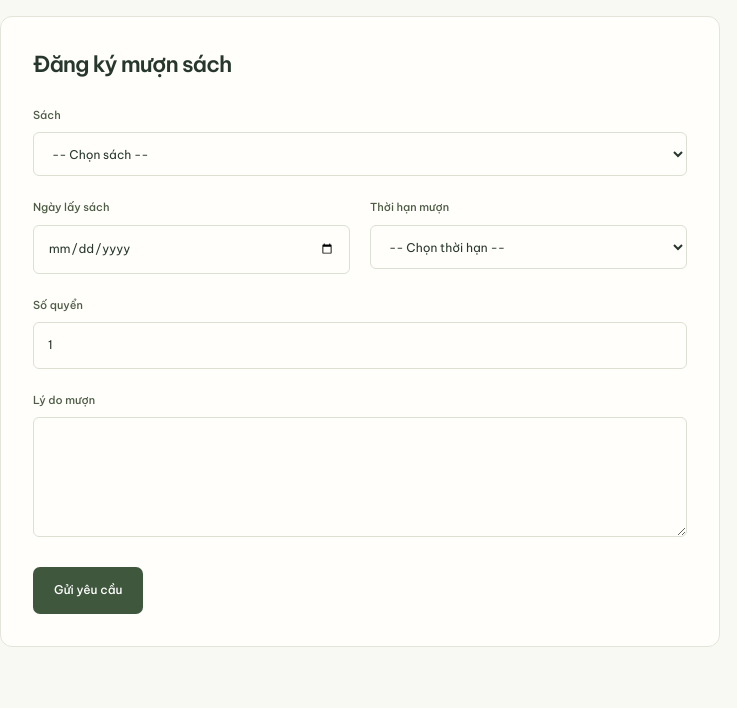
Test case: lỗi hiện bên dưới đúng ô và liên kết bằng aria-describedby
Click the button "Gửi yêu cầu": (88, 590) [33,567,143,614]
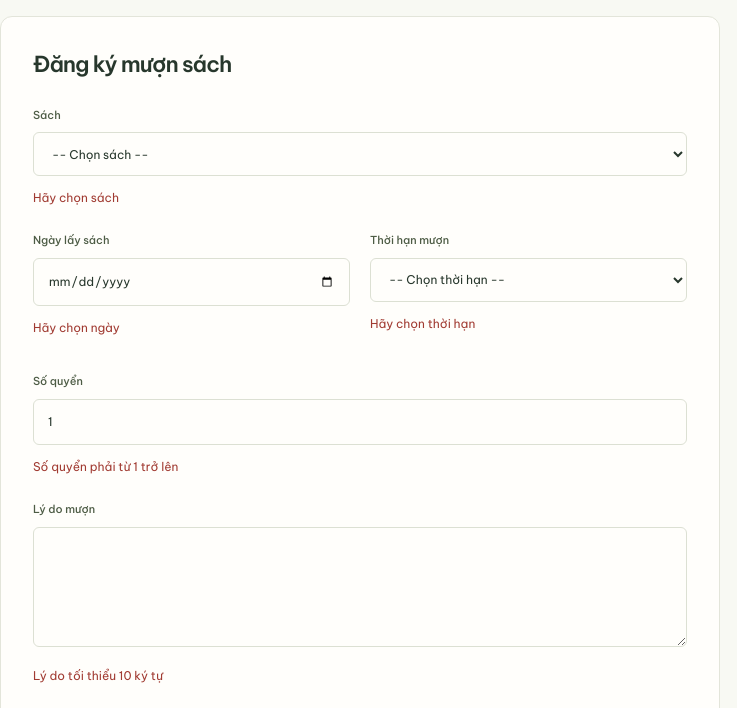
expect the number of messages is 5: met, box [33,190,119,206]; [33,320,120,335]; [370,316,475,331]; [33,459,178,474]; [33,668,163,683]
